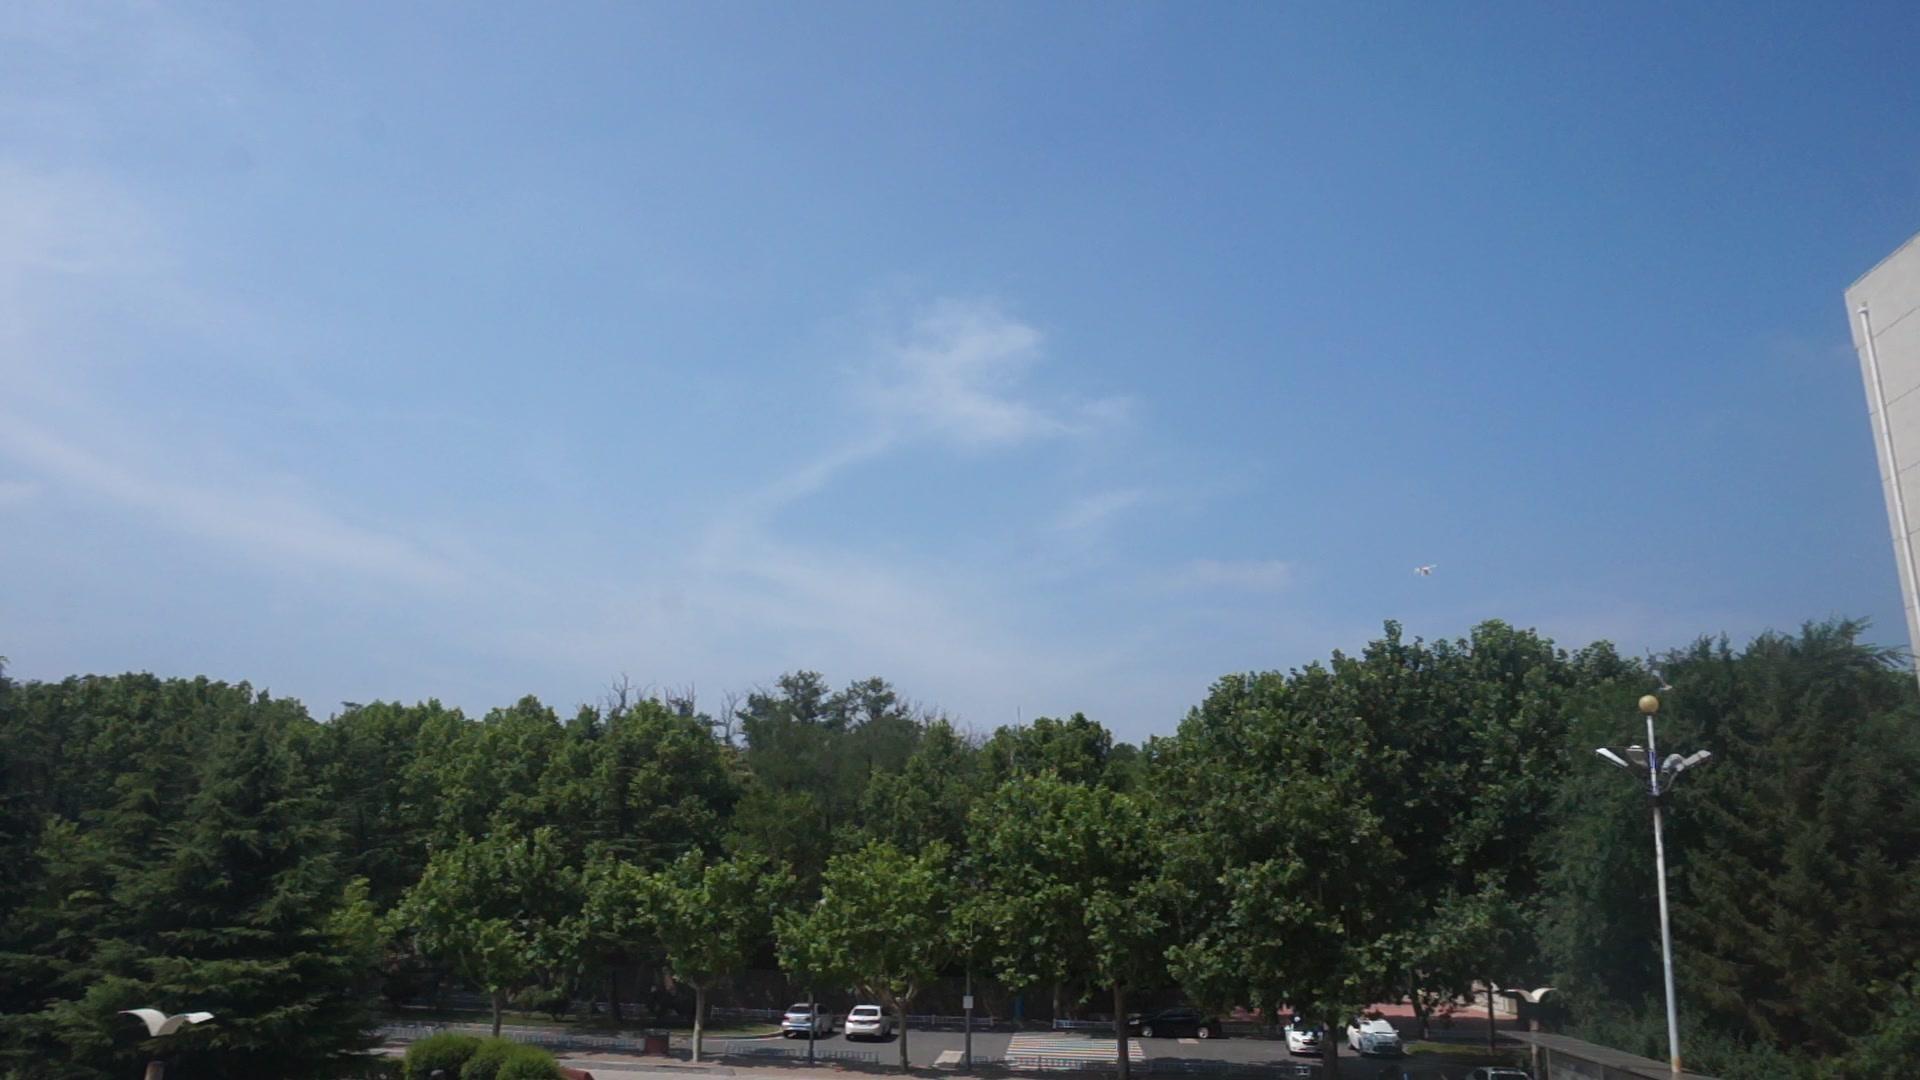UAV: (1415, 564, 1437, 576)
